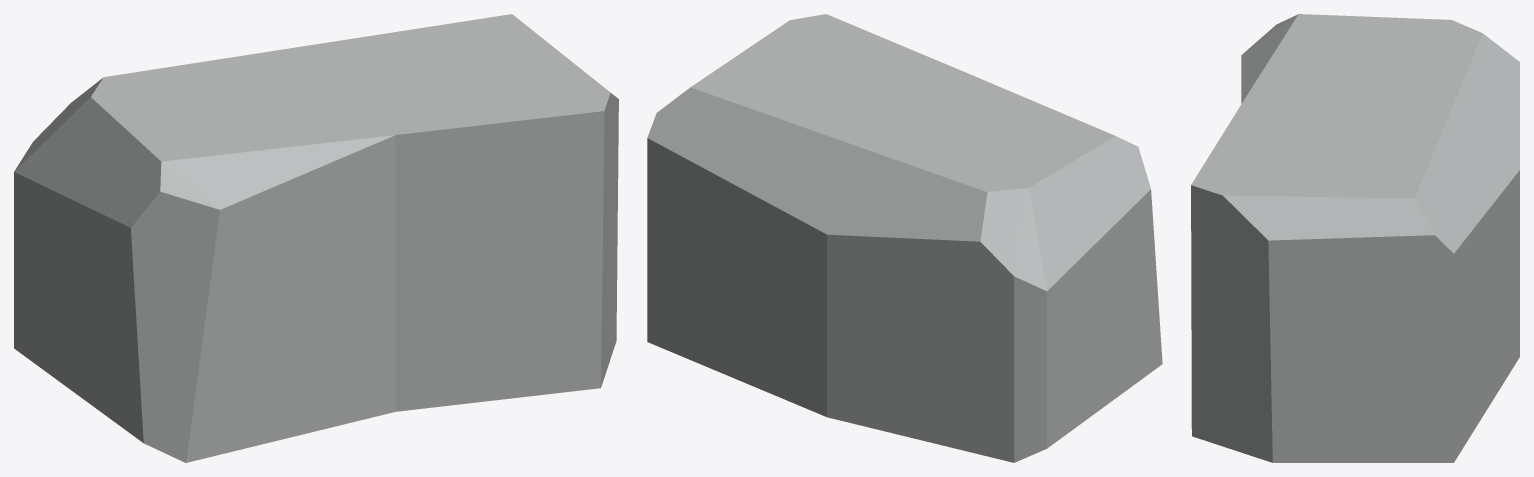
The model's file is Rock_Block_m_10.fbx.
The picture shows the model from 3 angles, left to right: view 1: azimuth 30°, elevation 25°; view 2: azimuth 150°, elevation 25°; view 3: azimuth 270°, elevation 25°; orthographic projection. The views are drawn at different scales.
Visible parts, largest first — view 1: Rock_Block_m_10; view 2: Rock_Block_m_10; view 3: Rock_Block_m_10.
Part boxes in pixels (x1,y1,x2,y2): Rock_Block_m_10: (14, 14, 618, 462); Rock_Block_m_10: (647, 14, 1162, 462); Rock_Block_m_10: (1191, 14, 1519, 462).
Size of the model in its own units: 126 by 70 by 82.63.
